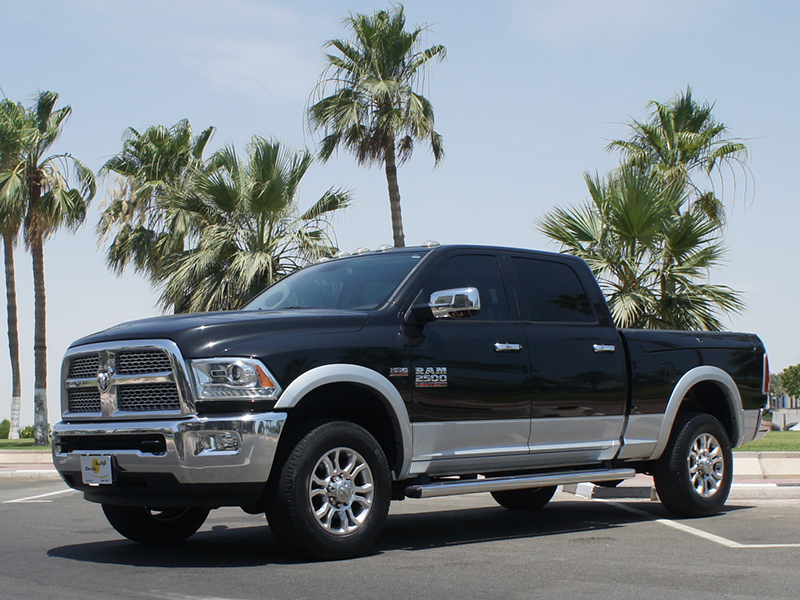other: (46, 231, 779, 543)
